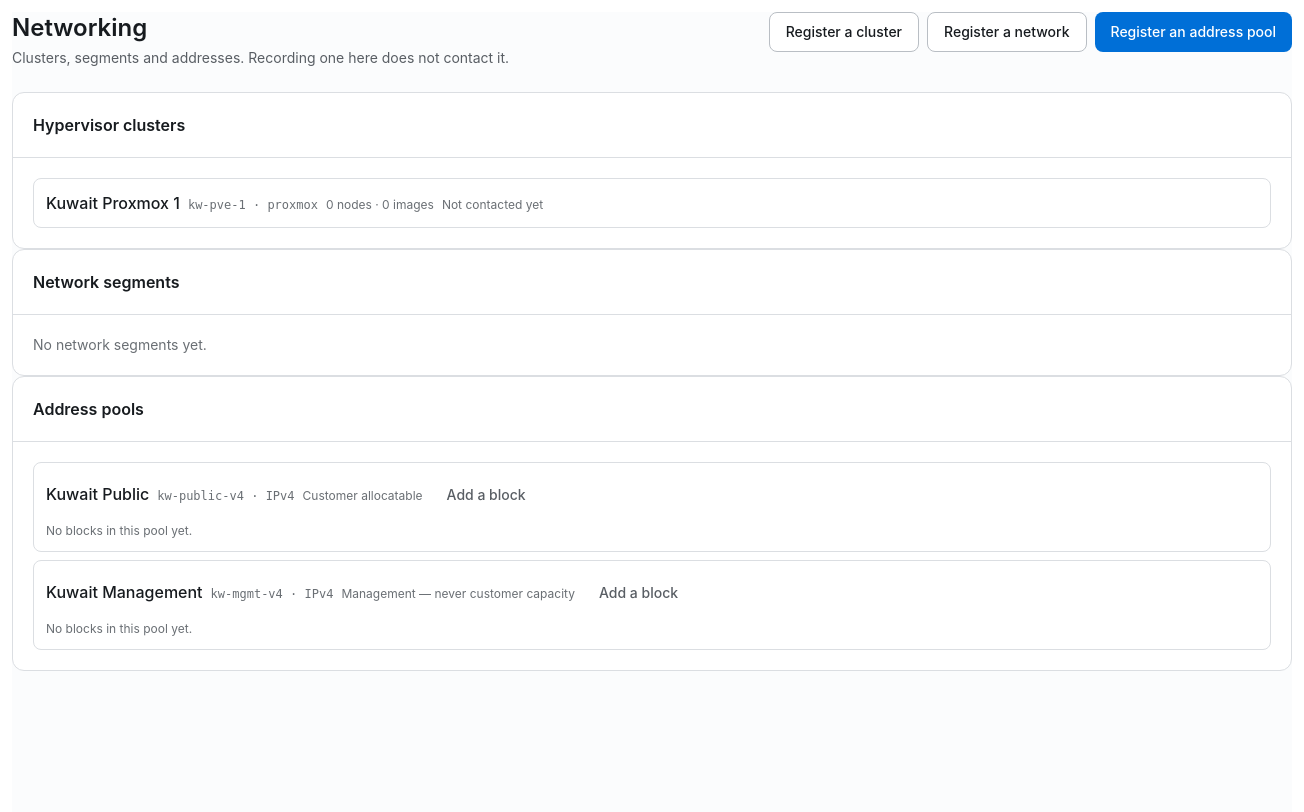
Scenario: NetworkingPage › refuses to offer customer-facing for a control-plane segment
Click the button "Register a network" at (1007, 32), box [927,12,1086,52]
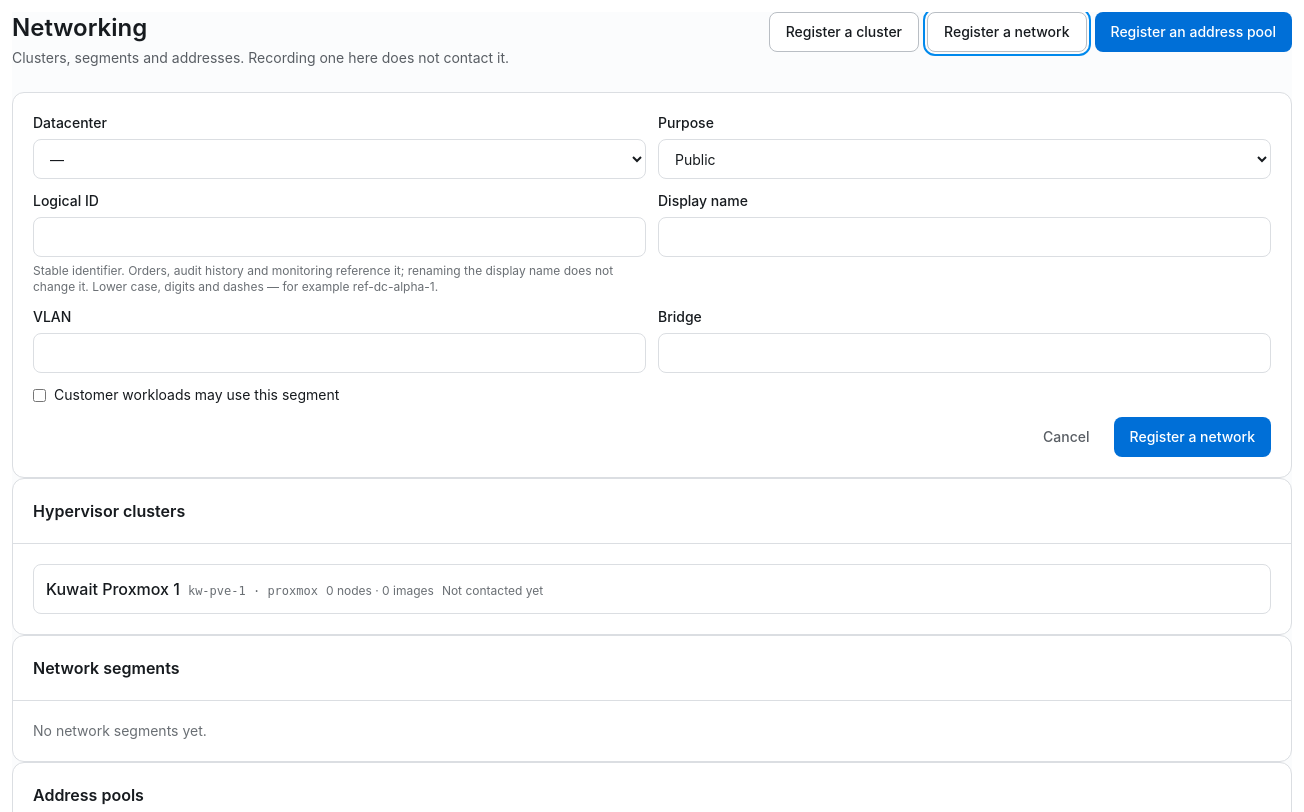
Now the checkbox labelled "Customer workloads may use this segment" is shown, box [33,388,46,402]
Select "Management" in the dropdown labelled "Purpose" at (964, 159), box [658,139,1271,179]
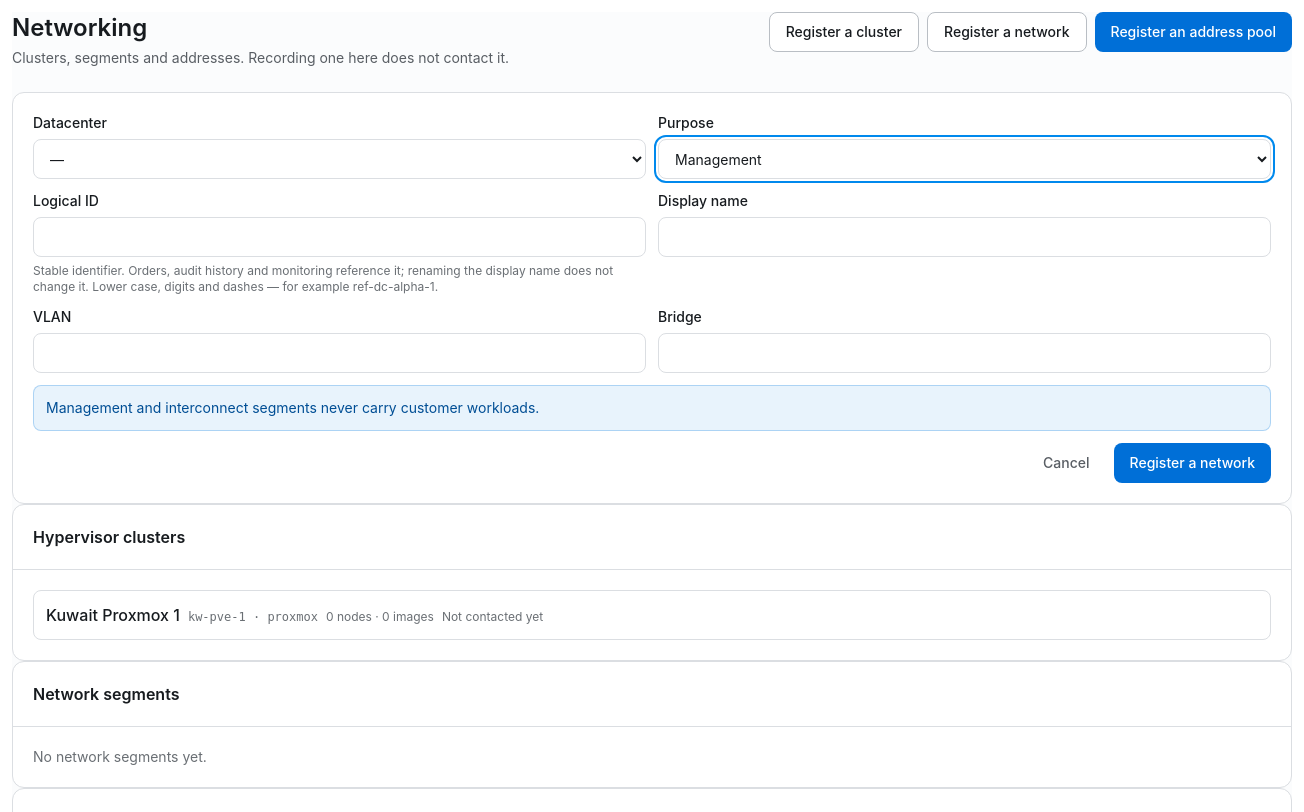
Now the label labelled "Customer workloads may use this segment" is gone
Now the text "never carry customer workloads" is shown, box [46,399,539,416]
